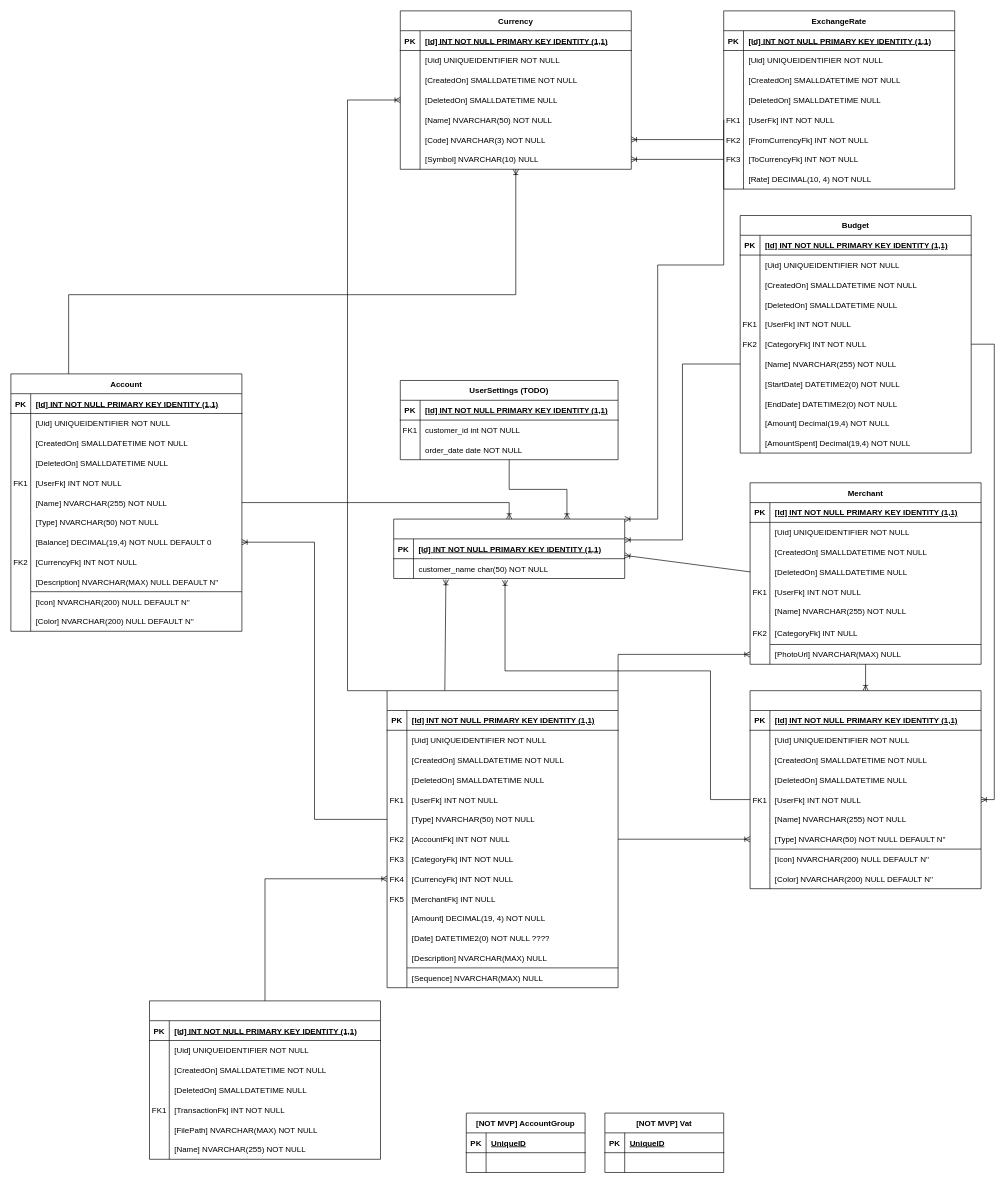
The diagram is 1005 pixels wide and 1183 high, and some of its shapes have lost their labels. Here are the shapes that lost their labels. From the top down, the box of each, then its label:
(393, 518, 625, 578): User (Managed by AZ AD B2C)
(749, 690, 981, 889): Category
(386, 690, 618, 988): Transaction
(149, 1000, 380, 1159): TransactionAttachment
